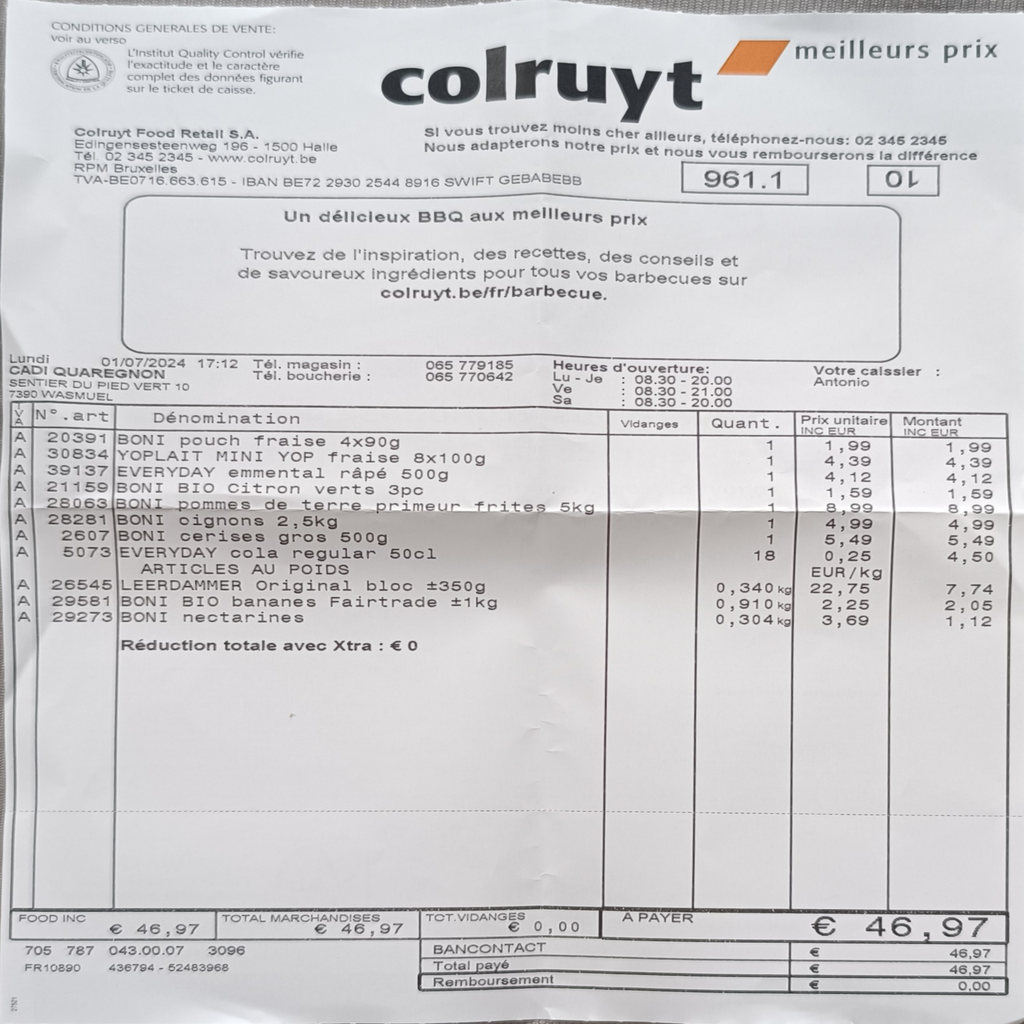recipt: (4, 8, 1020, 1016)
